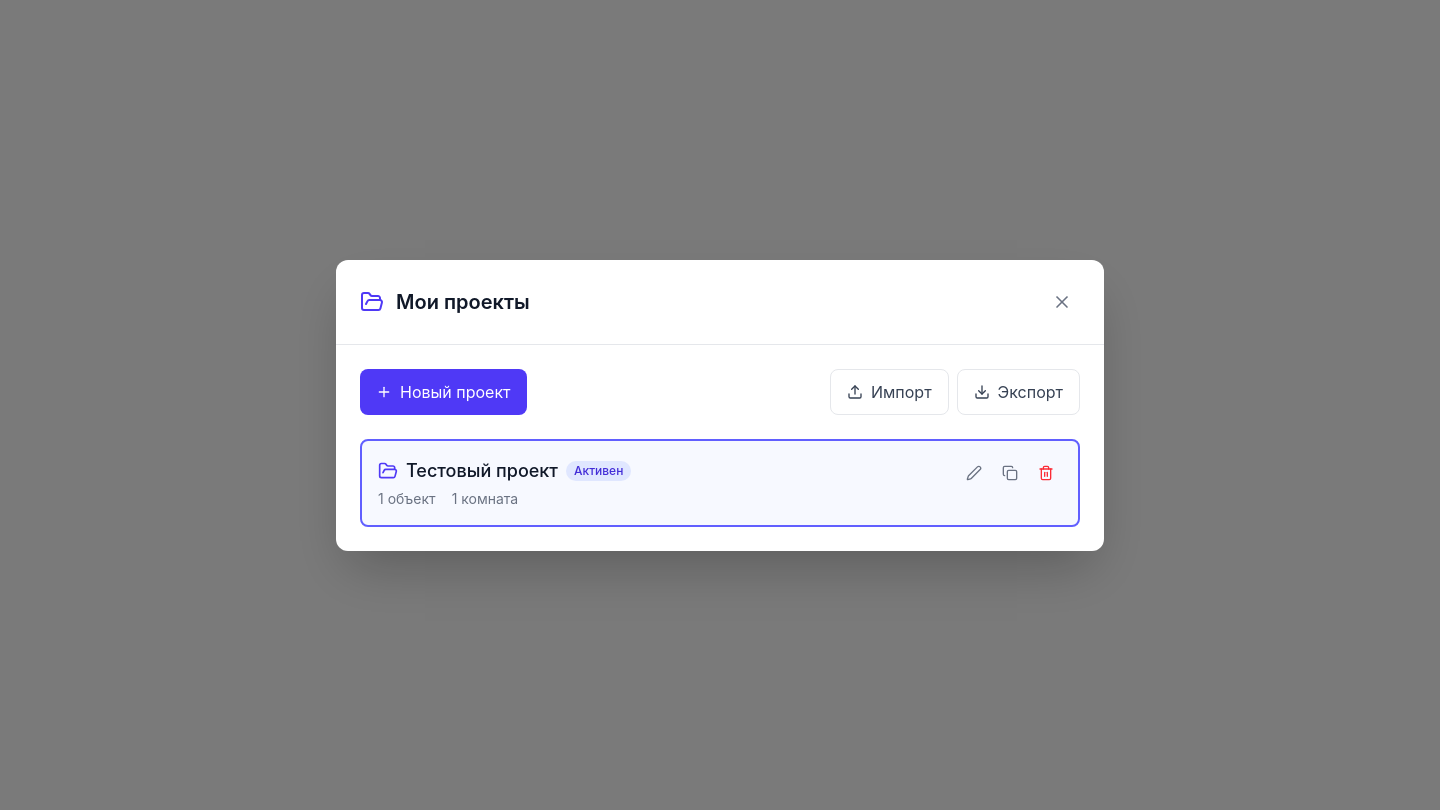
Test: ProjectsModal › should open CreateProjectModal when "Новый проект" button clicked
Click the button "Новый проект" at (443, 392), box x1=360 y1=368 x2=526 y2=414
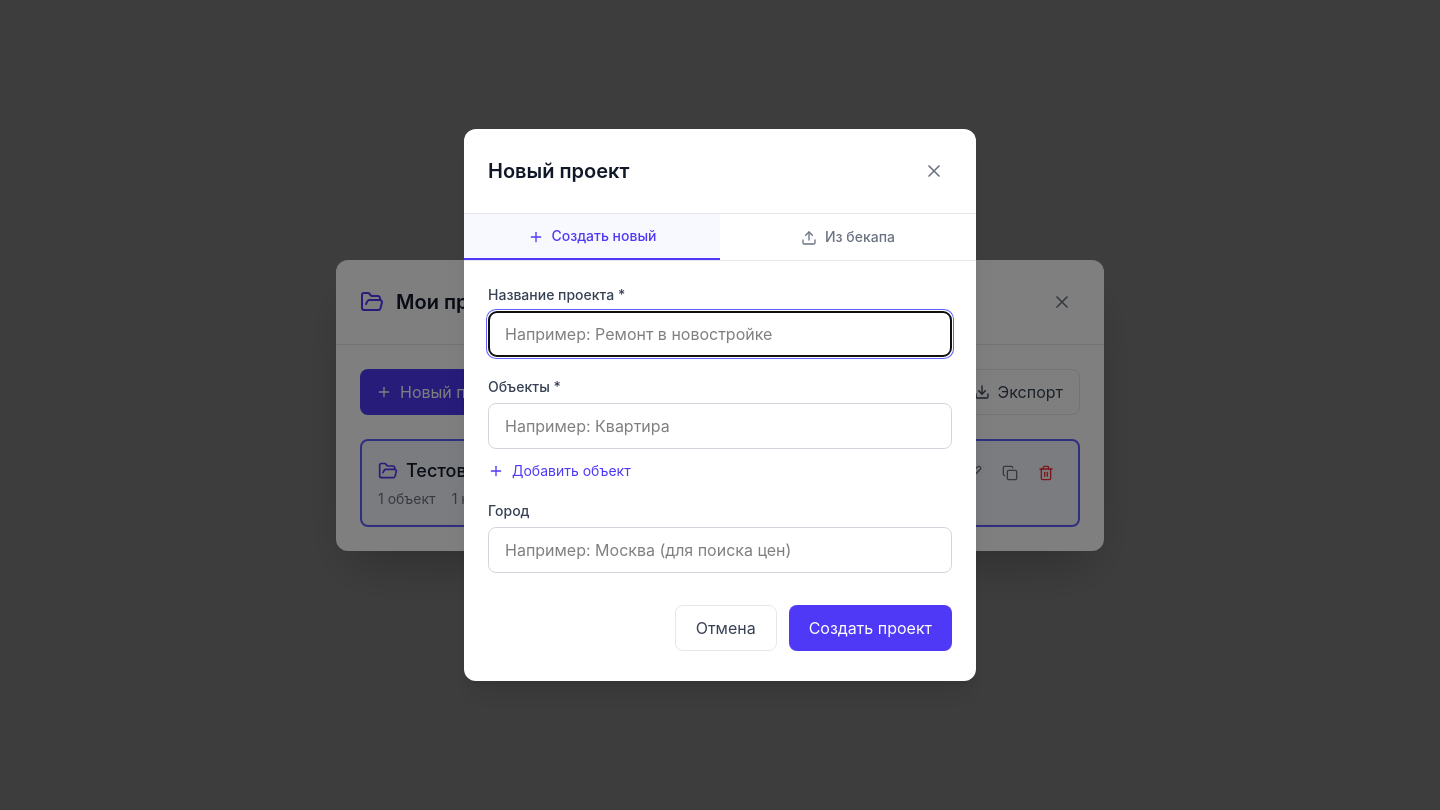
Expected: the heading "Новый проект" is shown, x1=488 y1=157 x2=629 y2=185
Expected: the tab "Создать новый" is shown, x1=464 y1=214 x2=720 y2=260
Expected: the tab "Из бекапа" is shown, x1=720 y1=214 x2=976 y2=260
